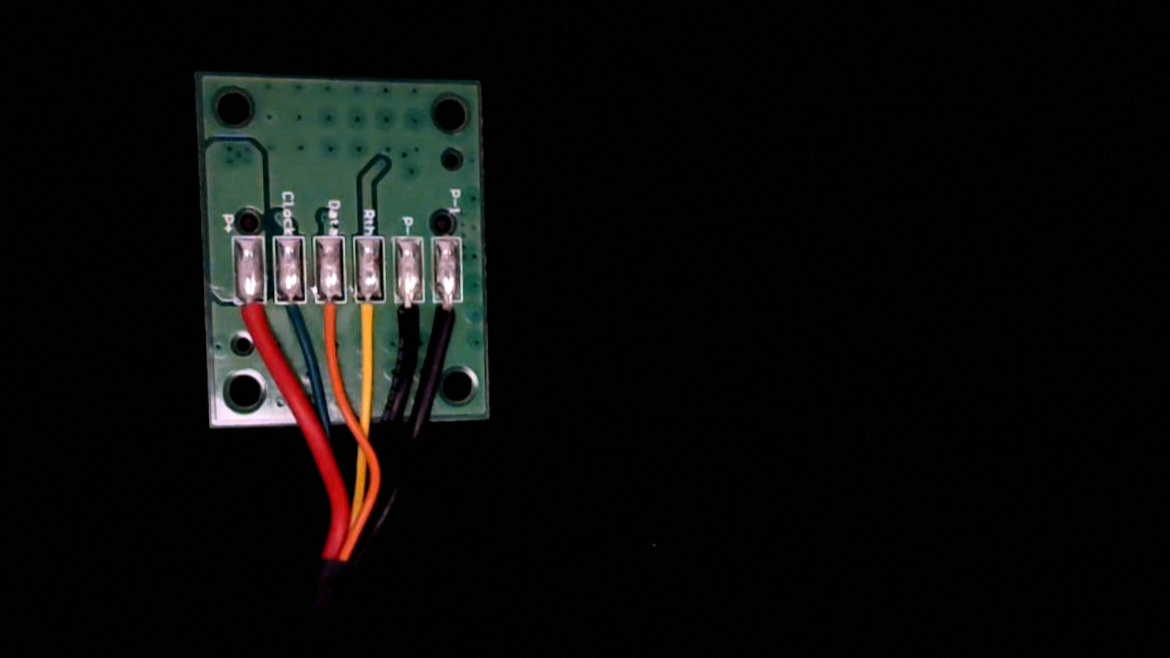Black: (393, 281, 427, 356)
Black1: (434, 280, 467, 350)
Green: (274, 280, 309, 353)
Orange: (315, 280, 347, 356)
Red: (233, 280, 268, 354)
Yellow: (354, 281, 388, 358)
